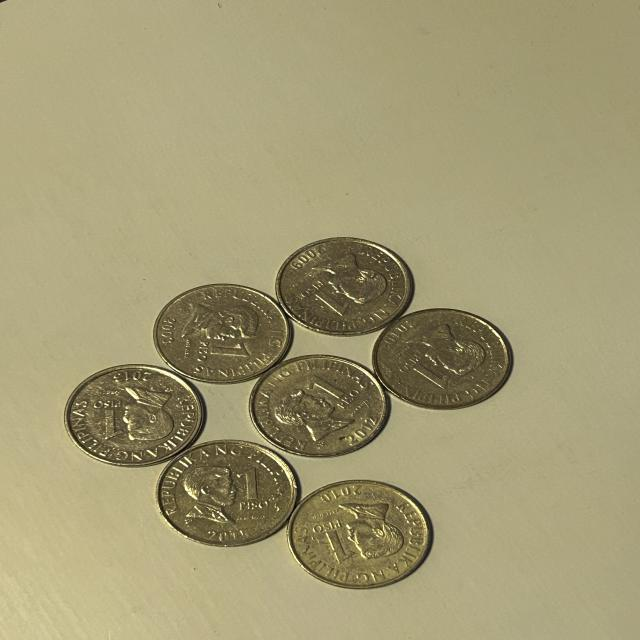1_Old_Front: (309, 516, 365, 572), (302, 372, 366, 417), (394, 350, 452, 396), (294, 284, 357, 324), (86, 396, 128, 451), (188, 336, 253, 371), (232, 466, 273, 518)
